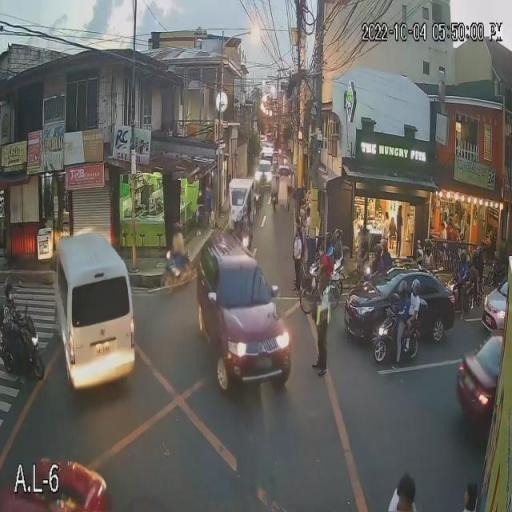helmet: (396, 280, 408, 298), (459, 249, 470, 266), (411, 279, 421, 297), (373, 243, 383, 258), (334, 226, 343, 240), (324, 230, 333, 244), (380, 238, 389, 251)
motorcycle: (0, 324, 49, 382), (372, 308, 419, 362), (446, 278, 478, 311), (310, 262, 346, 291), (332, 241, 345, 267), (360, 264, 378, 280)
rider: (2, 302, 26, 373), (396, 300, 410, 364), (407, 294, 422, 348), (458, 267, 472, 314), (371, 258, 385, 274), (381, 252, 392, 267), (325, 245, 332, 256)
